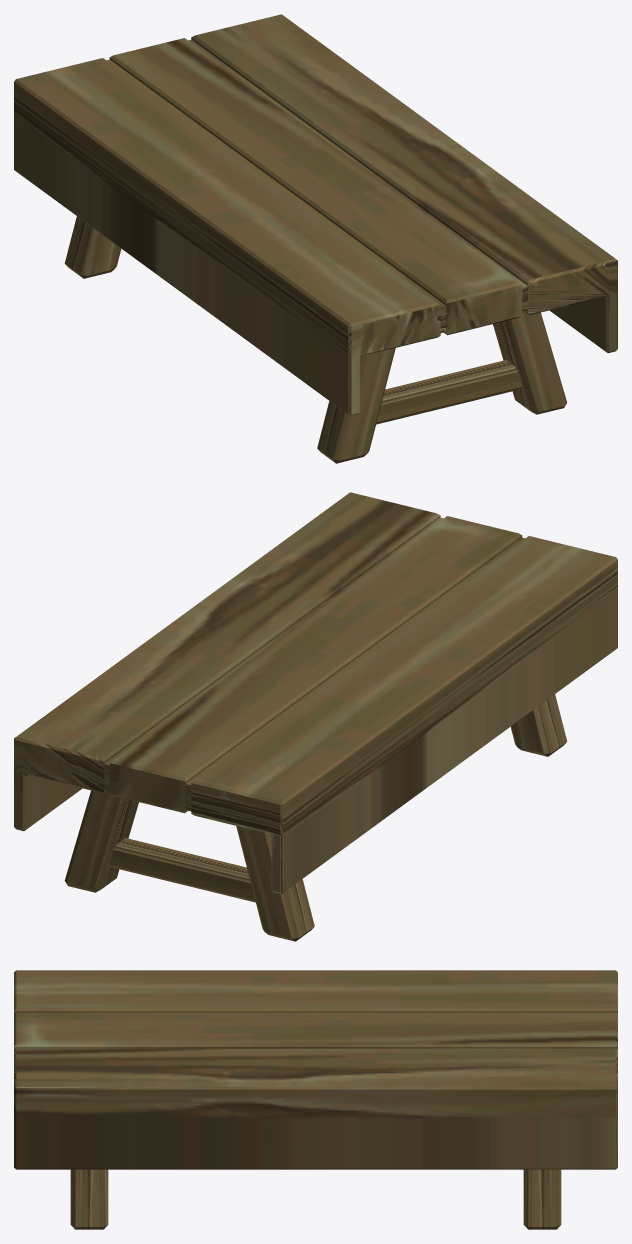
The model's file is mason_bench.glb.
3 views of the same model, one above another, from view 1: azimuth 30°, elevation 25°; view 2: azimuth 150°, elevation 25°; view 3: azimuth 270°, elevation 25° (orthographic). The views are drawn at different scales.
Parts seen in each view (by area): view 1: top, stool; view 2: top, stool; view 3: top, stool.
Part boxes in pixels (bbox=[...]): top: bbox=[14, 14, 617, 415]; stool: bbox=[64, 216, 567, 463]; top: bbox=[14, 492, 617, 893]; stool: bbox=[64, 694, 567, 941]; top: bbox=[14, 970, 617, 1169]; stool: bbox=[70, 1169, 561, 1229].
Size of the model in its own units: 1.48 by 0.8853 by 3.2.
1 material, 1 textured.
